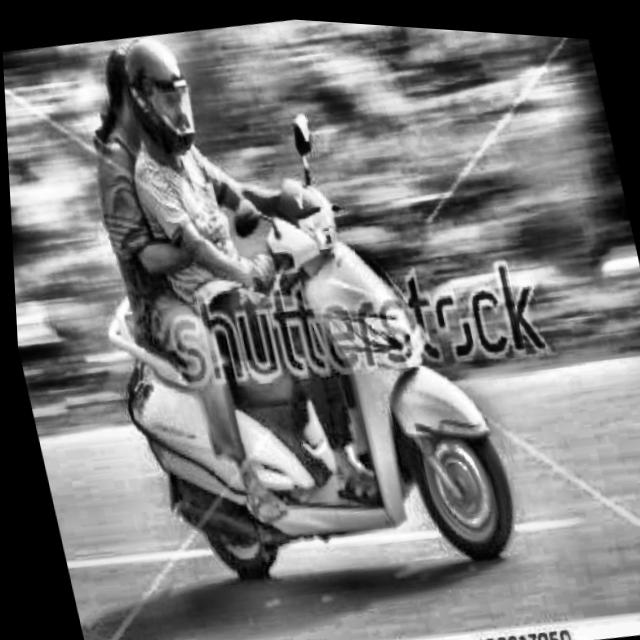motorcycle: (68, 216, 540, 627)
